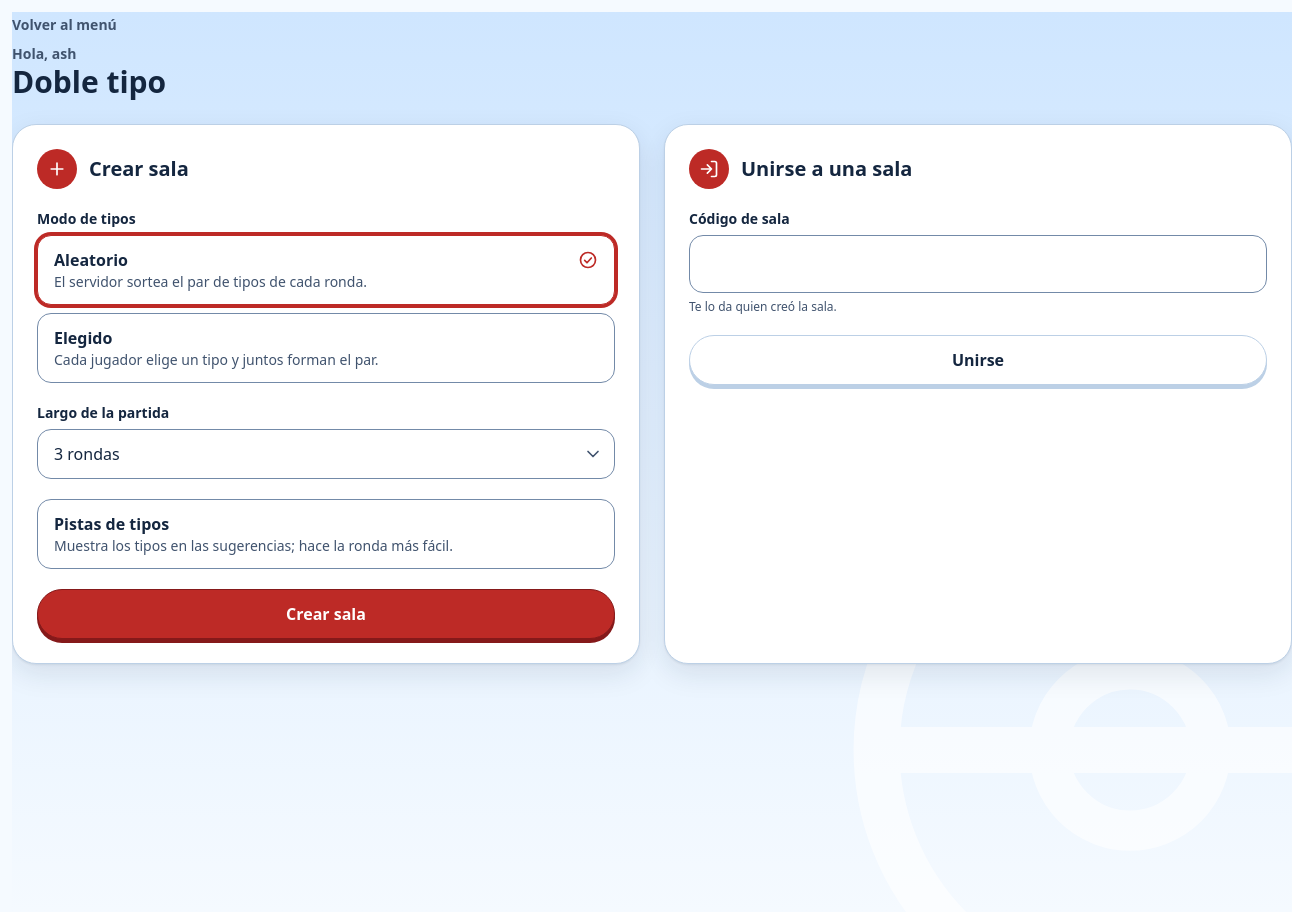
Test: lobby (etapa 6) › los modos de tipos son tarjetas seleccionables: radios de verdad con su marca de selección
expect the radio button labelled "Aleatorio El servidor sortea el par de tipos de cada ronda." is checked: met, box [37,235,615,305]
expect the icon in the row of "Aleatorio" is shown: met, box [578,250,598,270]
Click the radio button labelled "Elegido Cada jugador elige un tipo y juntos forman el par.". click: point(326, 348)
box: [37,313,615,383]
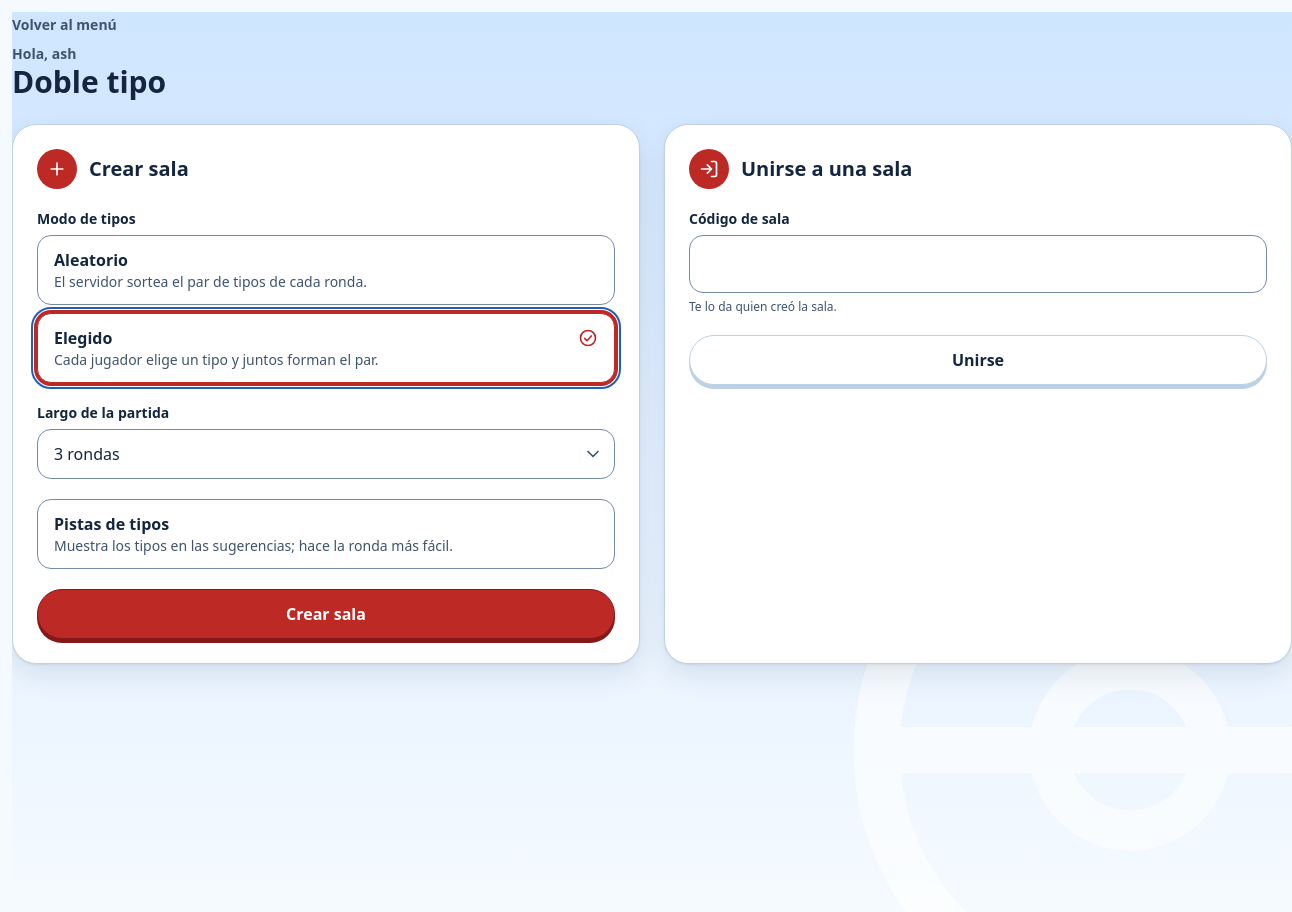
expect the radio button labelled "Elegido Cada jugador elige un tipo y juntos forman el par." is checked: met, box [37,313,615,383]
expect the radio button labelled "Aleatorio El servidor sortea el par de tipos de cada ronda." is not checked: met, box [37,235,615,305]
